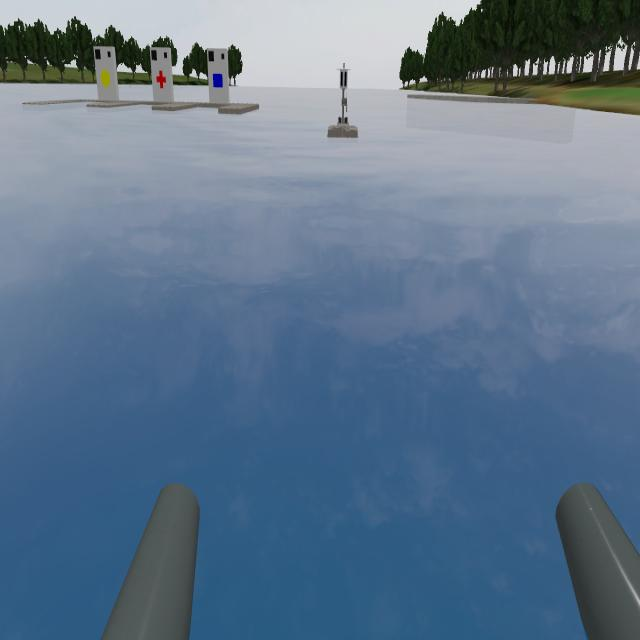black_pole: (333, 64, 352, 96)
